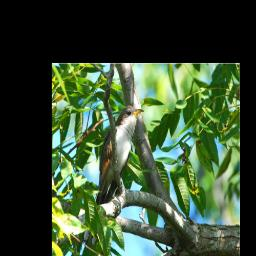Cuckoo: (96, 105, 144, 204)
